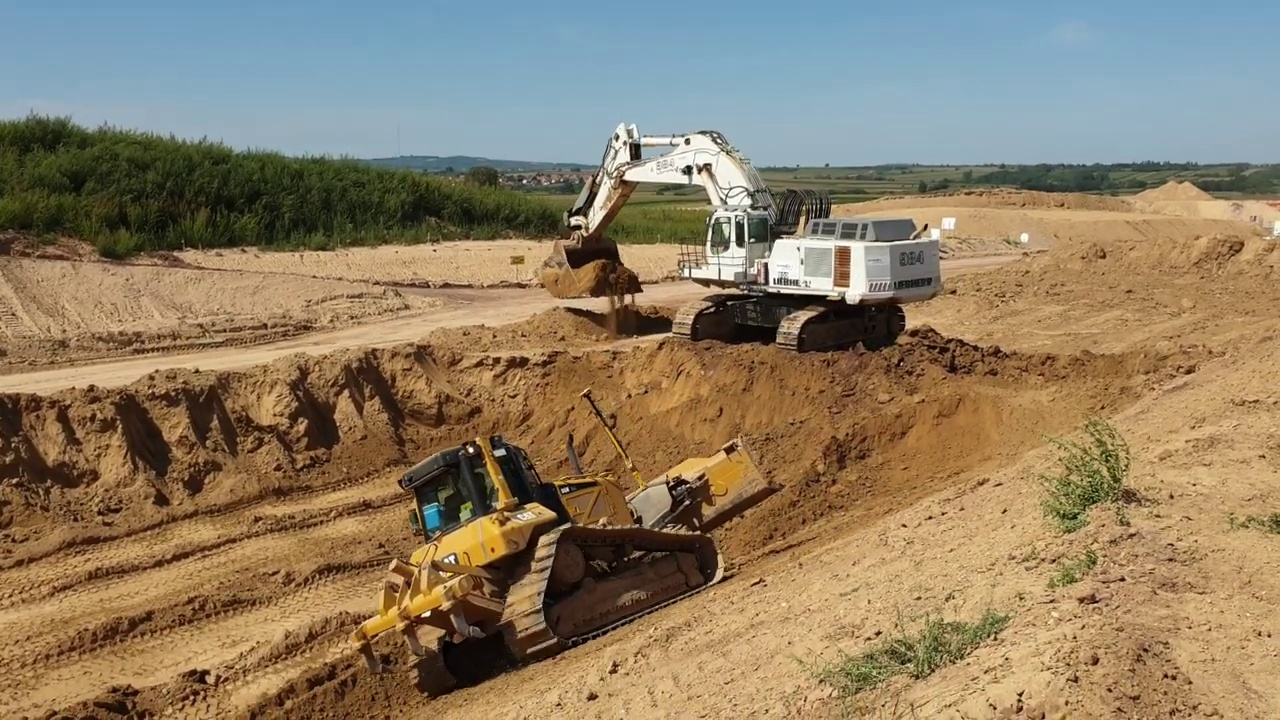bulldozer: (347, 382, 783, 703)
excavator: (535, 114, 950, 365)
